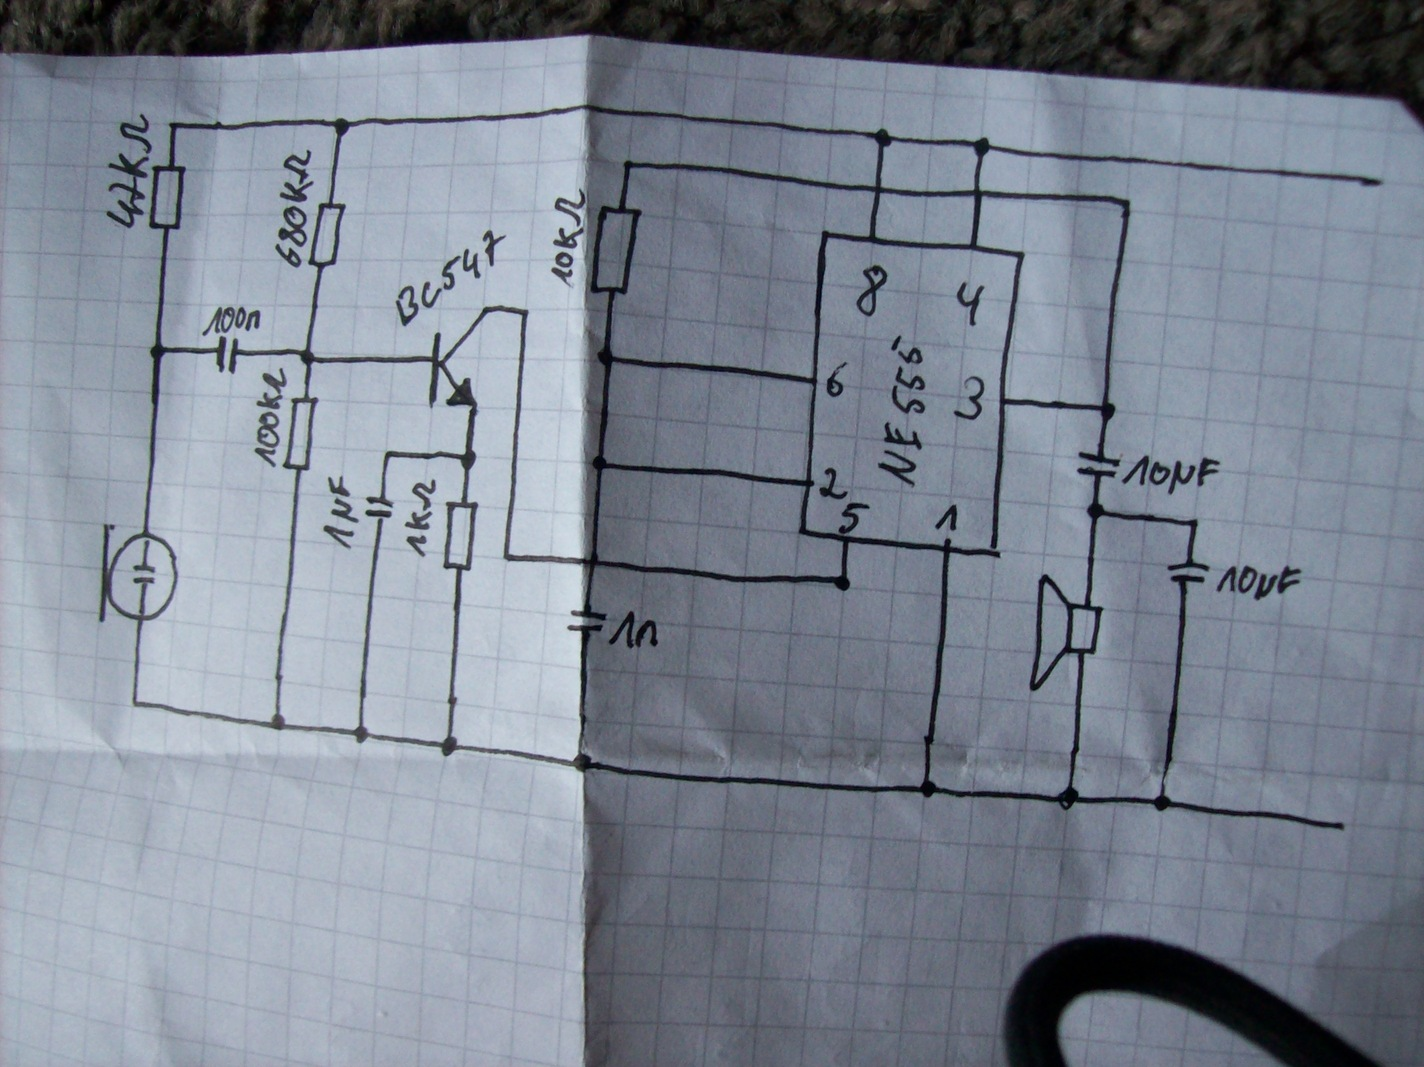capacitor.unpolarized: (1074, 449, 1120, 480), (1165, 557, 1211, 587), (565, 607, 609, 635), (213, 334, 241, 375), (364, 494, 395, 522)
crossover: (585, 553, 606, 573), (868, 179, 888, 200), (968, 183, 989, 201)
integrated_cricuit.ne555: (797, 229, 1029, 560)
junction: (1057, 785, 1082, 811), (1151, 792, 1178, 816), (569, 752, 596, 776), (350, 722, 374, 746), (266, 711, 291, 734), (294, 346, 320, 369), (595, 343, 618, 368), (872, 126, 895, 149), (438, 734, 460, 759), (916, 777, 939, 800), (971, 134, 993, 159), (1085, 499, 1106, 523), (331, 115, 353, 138), (458, 448, 478, 473), (1097, 399, 1116, 424), (588, 453, 609, 473), (1115, 193, 1135, 214), (147, 342, 168, 361), (832, 572, 851, 592), (162, 115, 182, 134), (380, 446, 398, 465), (620, 155, 637, 173), (128, 695, 145, 714), (499, 549, 515, 567), (516, 304, 533, 321), (1186, 514, 1203, 531)
microphone: (96, 521, 182, 625)
resistor: (587, 203, 643, 296), (280, 395, 320, 472), (306, 200, 348, 271), (440, 498, 480, 574), (148, 163, 188, 234)
speaker: (1027, 572, 1106, 694)
terminal: (1361, 168, 1393, 198), (1328, 814, 1352, 838)
text: (393, 228, 509, 328), (876, 332, 928, 489), (102, 111, 153, 230), (271, 147, 314, 271), (1120, 453, 1223, 497), (550, 186, 586, 289), (253, 367, 288, 470), (1214, 562, 1304, 601), (322, 474, 360, 551), (403, 477, 438, 558), (608, 609, 661, 651), (201, 304, 263, 337), (854, 265, 888, 317), (952, 374, 987, 423), (955, 280, 985, 328), (817, 466, 850, 501), (837, 501, 871, 535), (823, 360, 851, 400), (934, 501, 962, 533)
transistor: (426, 304, 492, 411)
